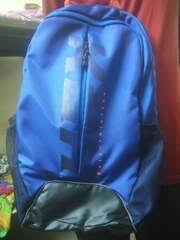backpack: (6, 3, 165, 239)
